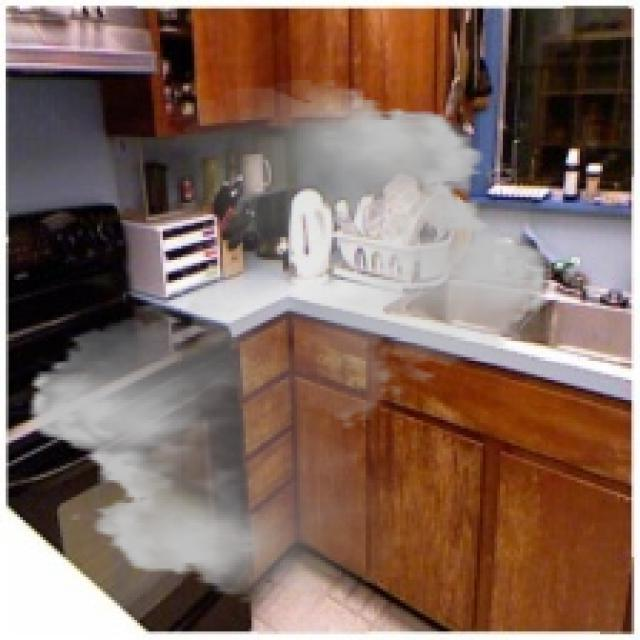Smoke: (11, 80, 566, 603)
